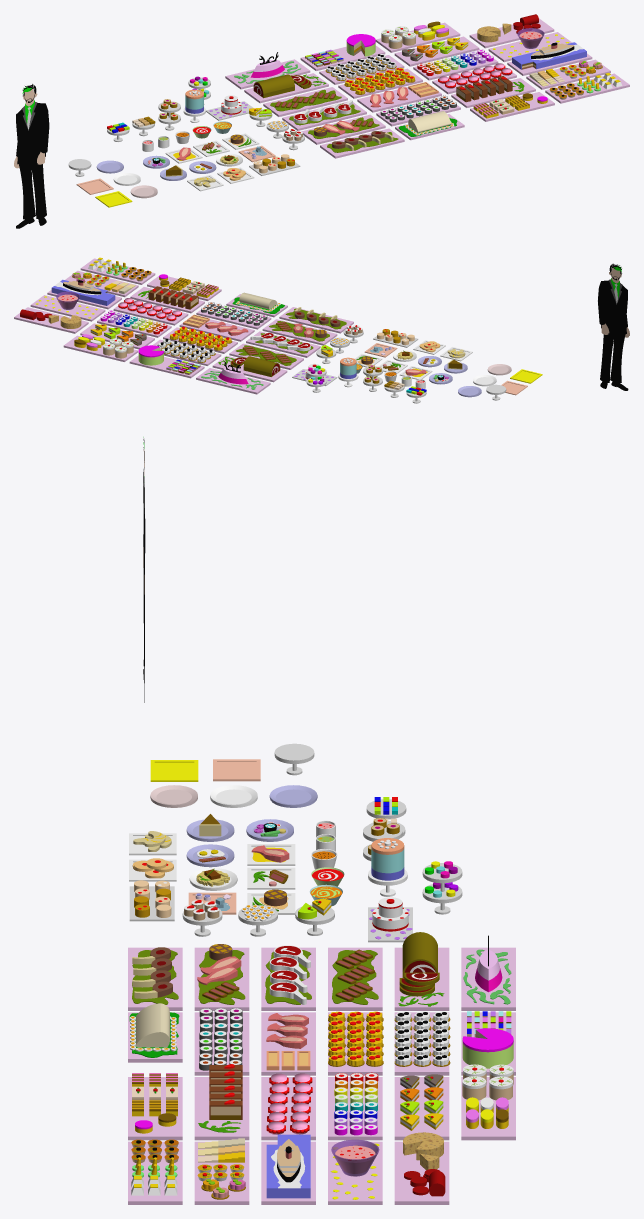
The model's file is cartoon_food_low_poly.glb.
3 views of the same model, one above another, from view 1: azimuth 30°, elevation 25°; view 2: azimuth 150°, elevation 25°; view 3: azimuth 270°, elevation 25° (orthographic). The views are drawn at different scales.
Parts seen in each view (by area): view 1: Material2 (×21), Material3 (×16); view 2: Material2 (×23), Material3 (×19); view 3: Material2 (×18), Material3 (×12).
Part boxes in pixels (x1,y1,x2,y2): Material2 (×21): [27, 14, 629, 207]; Material3 (×16): [16, 27, 602, 228]; Material2 (×23): [14, 258, 629, 403]; Material3 (×19): [51, 263, 628, 394]; Material2 (×18): [128, 438, 515, 1204]; Material3 (×12): [130, 439, 513, 1199].
Size of the model in its own units: 13.25 by 3 by 4.13.
Materials: 98 (1 with a texture image).
